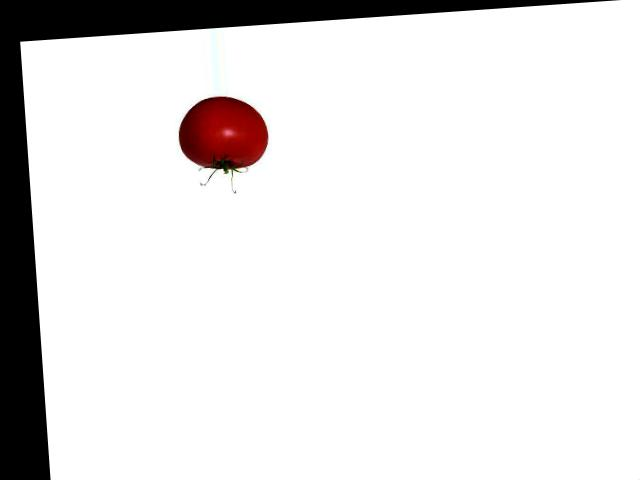tomato: (176, 93, 271, 172)
